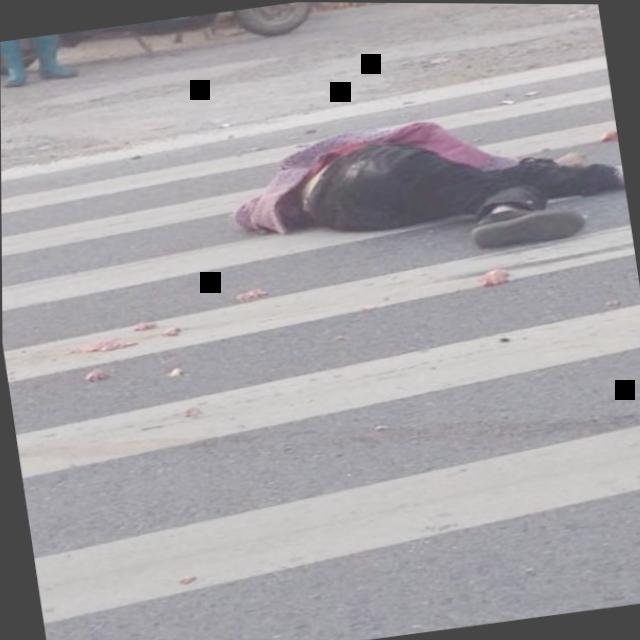Fall-Detected: (223, 72, 631, 282)
